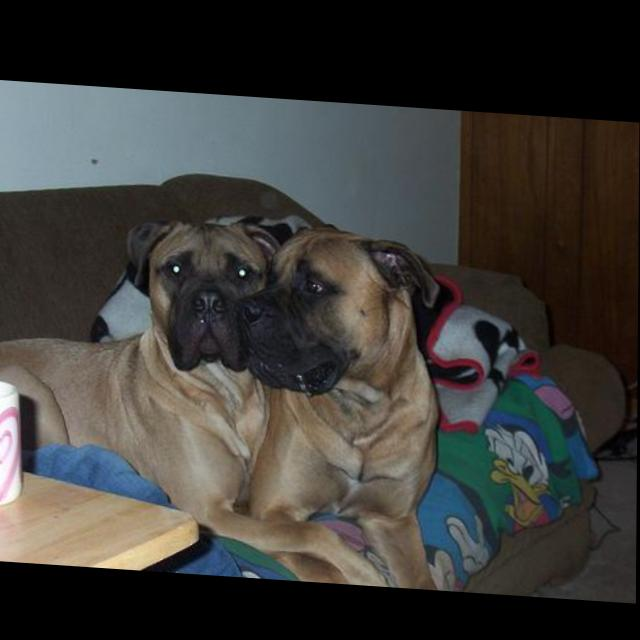bullmastiff: (1, 208, 400, 583), (239, 221, 443, 585)
